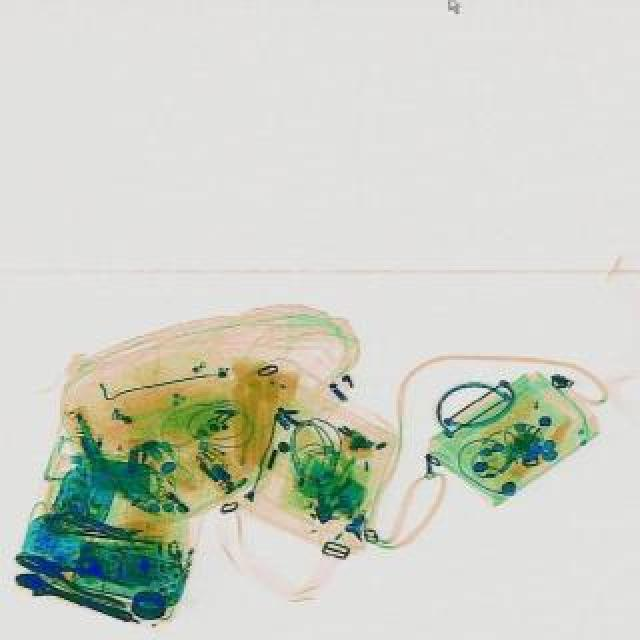scissors: (10, 568, 134, 628)
wrench: (12, 544, 134, 610)
